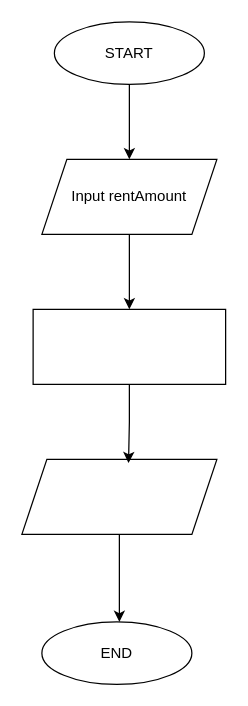
This 248x706 diagram has some shape labels left out. The centre of each missing label's shape, as x and y in pixels:
costPerDay = rentAmount/30: the point at 129,346
Output costPerDay: the point at 119,496
